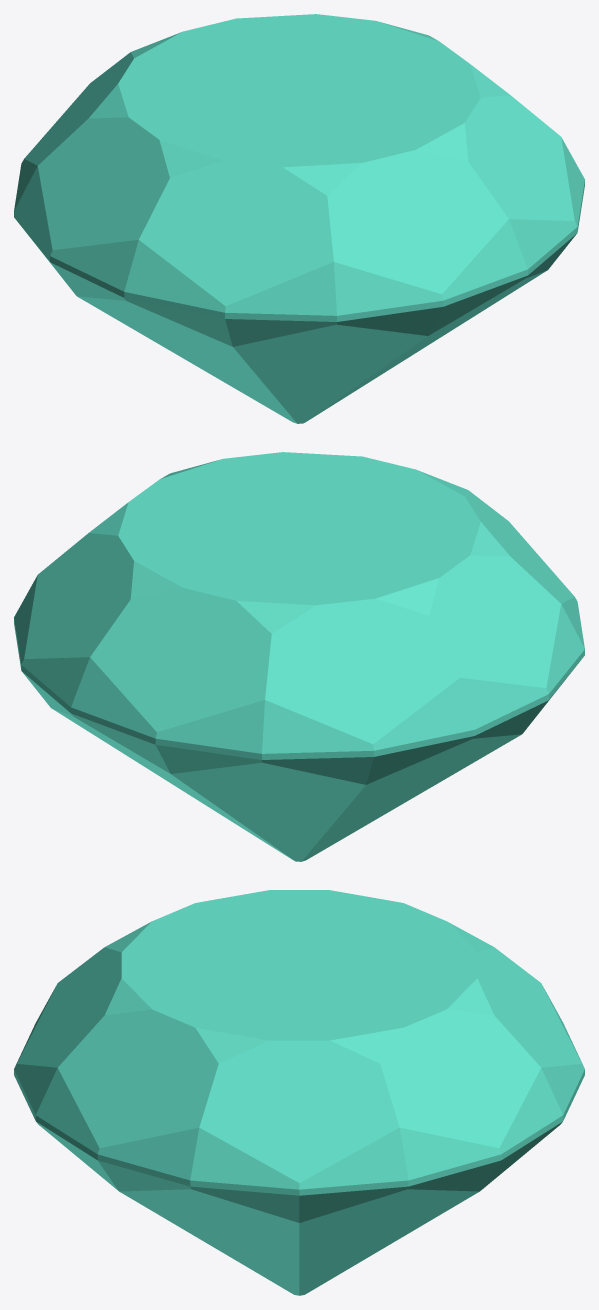
File: brilliant.glb
3 views of the same model, one above another, from view 1: azimuth 30°, elevation 25°; view 2: azimuth 150°, elevation 25°; view 3: azimuth 270°, elevation 25° (orthographic).
Visible parts, largest first — view 1: Prism_round; view 2: Prism_round; view 3: Prism_round.
Part boxes in pixels (x1,y1,x2,y2): Prism_round: (14,14,584,423); Prism_round: (14,452,584,861); Prism_round: (14,890,584,1295).
Bounding box in the file's own units: 2.04 × 1.29 × 2.04.
